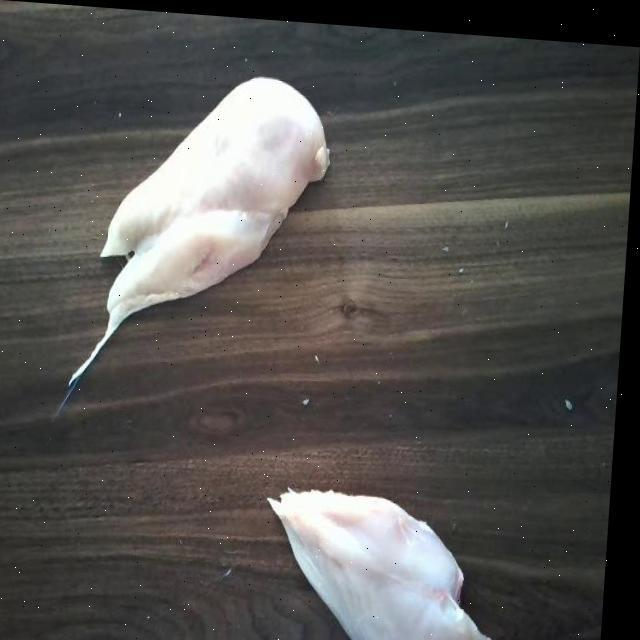breast: (93, 56, 338, 302), (280, 474, 508, 640)
